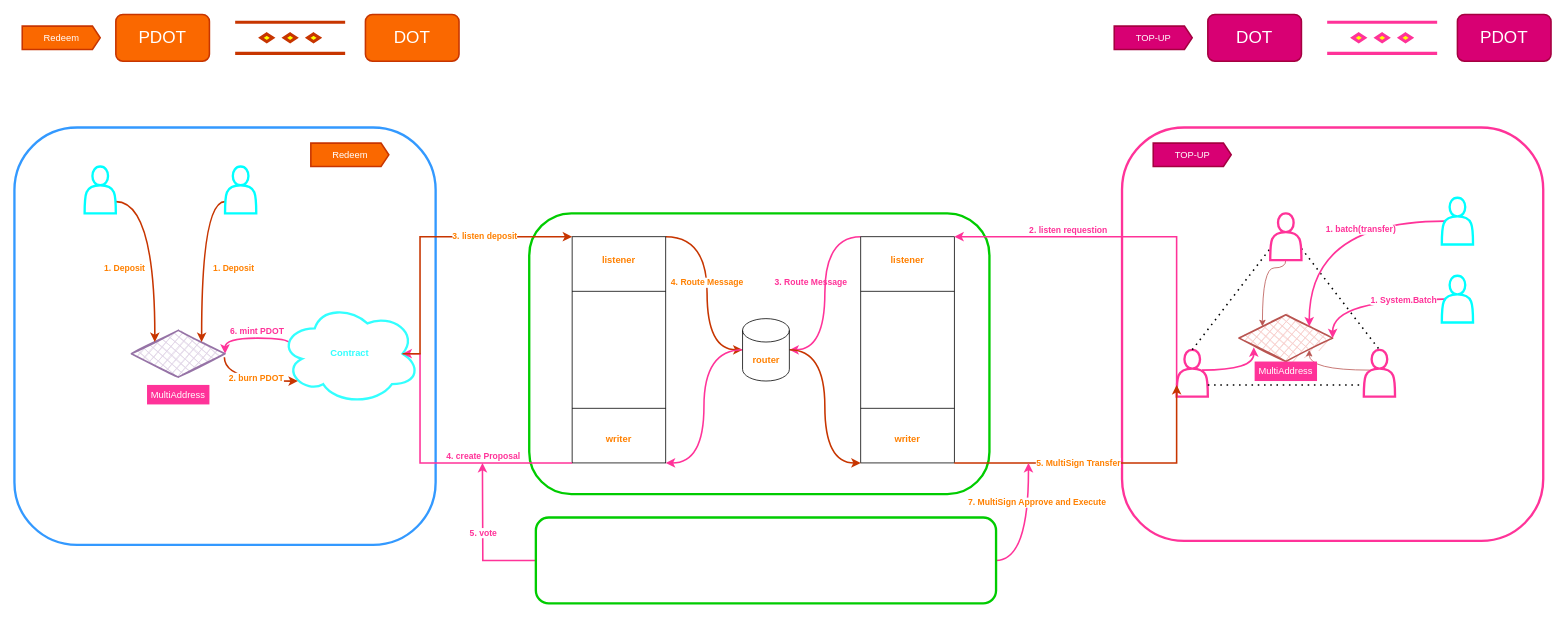
This 1565x618 diagram has some shape labels left out. The box of each missing label's shape, as (x1, y1, x2, y2) in pixels:
alaya: (571, 236, 666, 463)
kusama: (860, 236, 954, 463)
Other Relayer: (534, 516, 997, 604)
